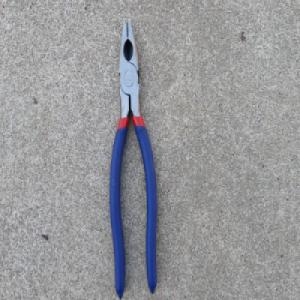Pliers: (107, 15, 158, 300)
